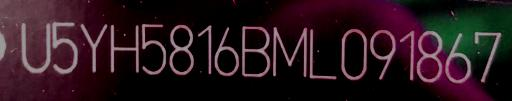letter: (269, 25, 309, 82), (308, 24, 340, 83), (18, 20, 52, 75), (49, 20, 81, 77), (240, 23, 272, 80), (337, 26, 369, 83), (108, 22, 142, 75), (414, 27, 444, 86), (442, 31, 474, 86), (472, 30, 502, 87), (76, 21, 108, 74), (167, 22, 197, 77), (368, 27, 398, 82), (140, 22, 168, 77), (212, 23, 240, 78), (194, 22, 214, 75), (398, 29, 416, 84)
